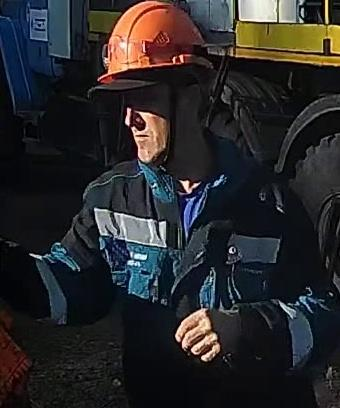helmet: (95, 0, 212, 84)
vest: (72, 157, 336, 406)
